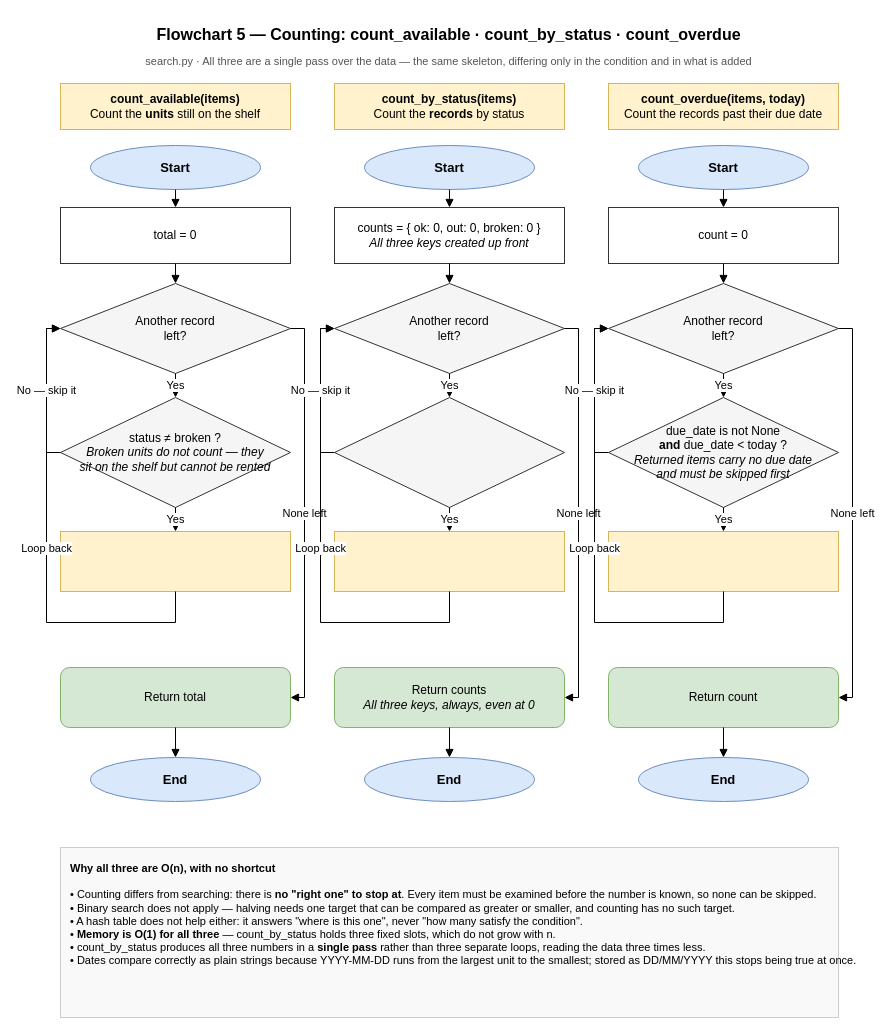
Some shapes in this 892 by 1035 pixel diagram are drawn without their labels. The shapes that lost their labels are listed below. From the top down, each one's centre as x and y in pixels, then its label:
point (449, 452): status is one of the three known keys? Unknown values are skipped
point (175, 561): total += item["available"] Adds a quantity, not 1
point (449, 561): counts[status] += 1
point (723, 561): count += 1
